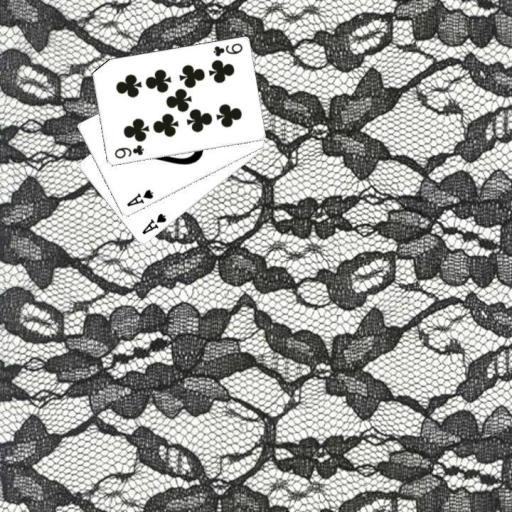9C: (111, 142, 145, 161), (210, 40, 244, 58)
AS: (139, 211, 168, 236), (124, 187, 155, 209)
